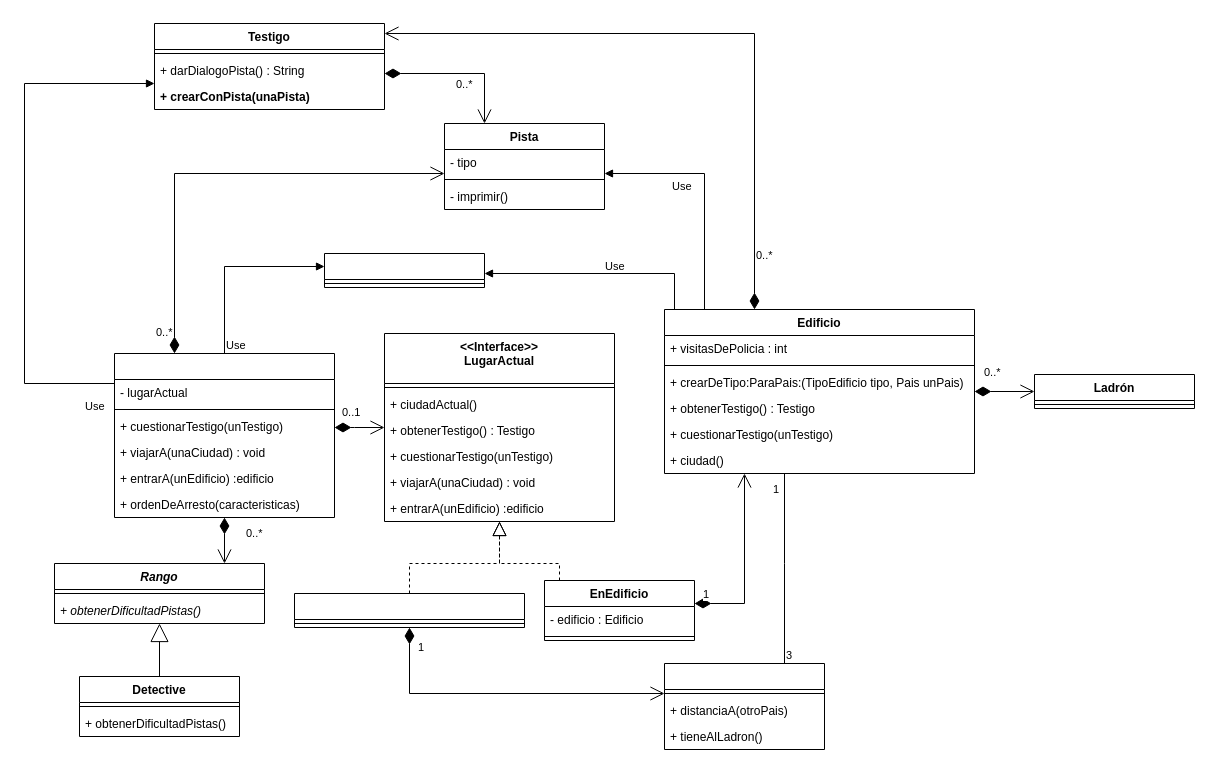
The diagram is 1212 pixels wide and 770 high, and some of its shapes have lost their labels. Each missing label, with the box of its shape:
Ciudad/Pais: (664, 662, 824, 750)
Dificultad: (324, 252, 484, 288)
FueraDeEdificio: (294, 592, 524, 628)
Policia: (114, 352, 334, 518)
